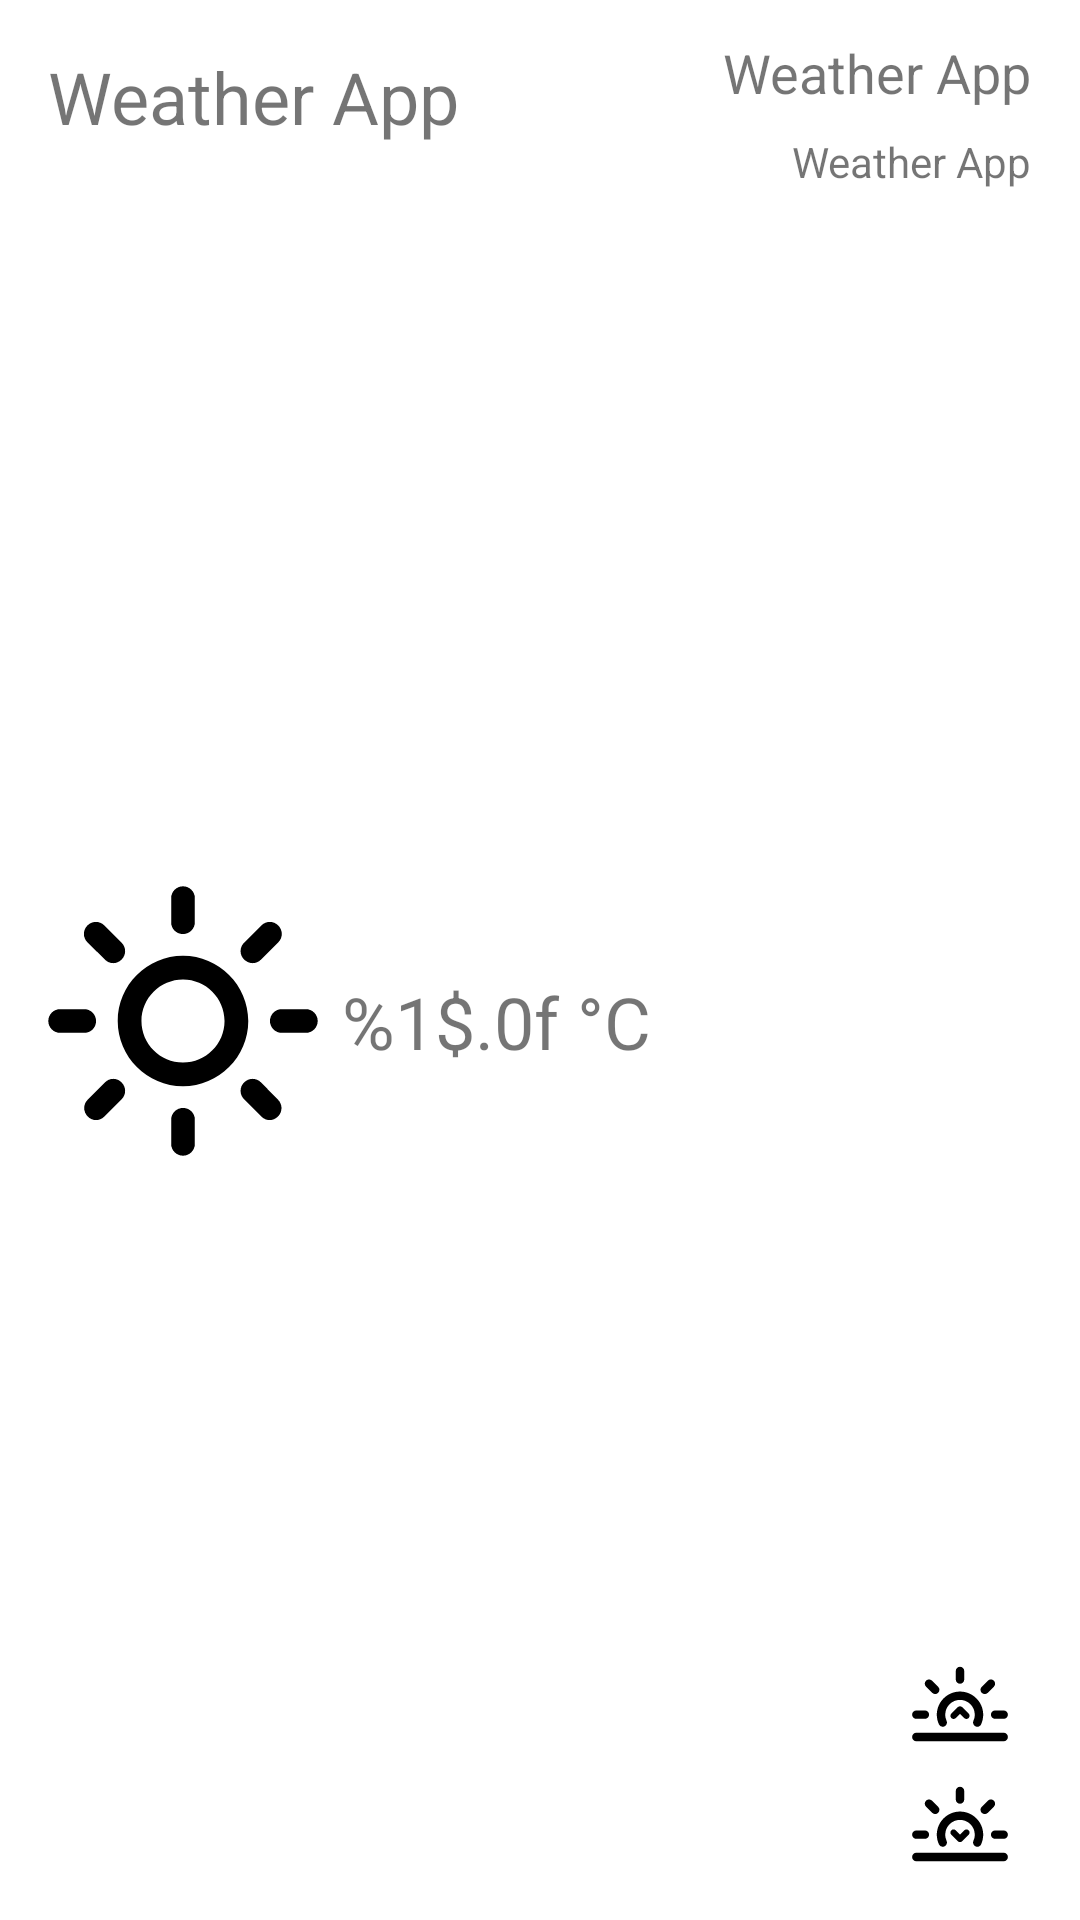

Locate icon controls on the screen. Image size 1080px×1920px, boxes as (left=x1, top=y1, right=x2, bottom=y2).
sun rise: (left=912, top=1666, right=1008, bottom=1742)
sun set: (left=912, top=1786, right=1008, bottom=1862)
weather sun: (left=48, top=886, right=318, bottom=1156)
